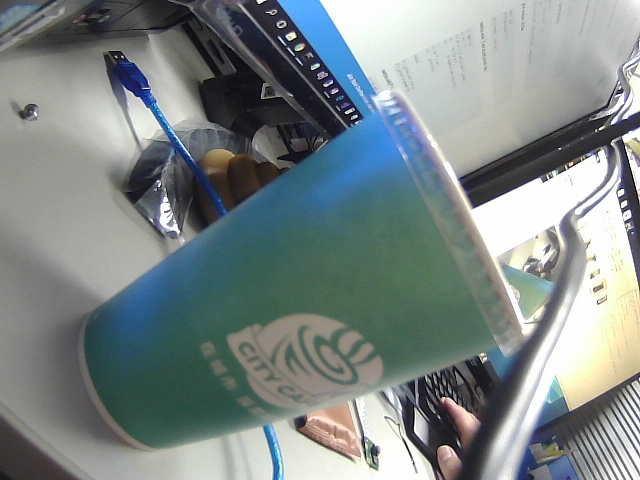beverage: (69, 74, 640, 457)
